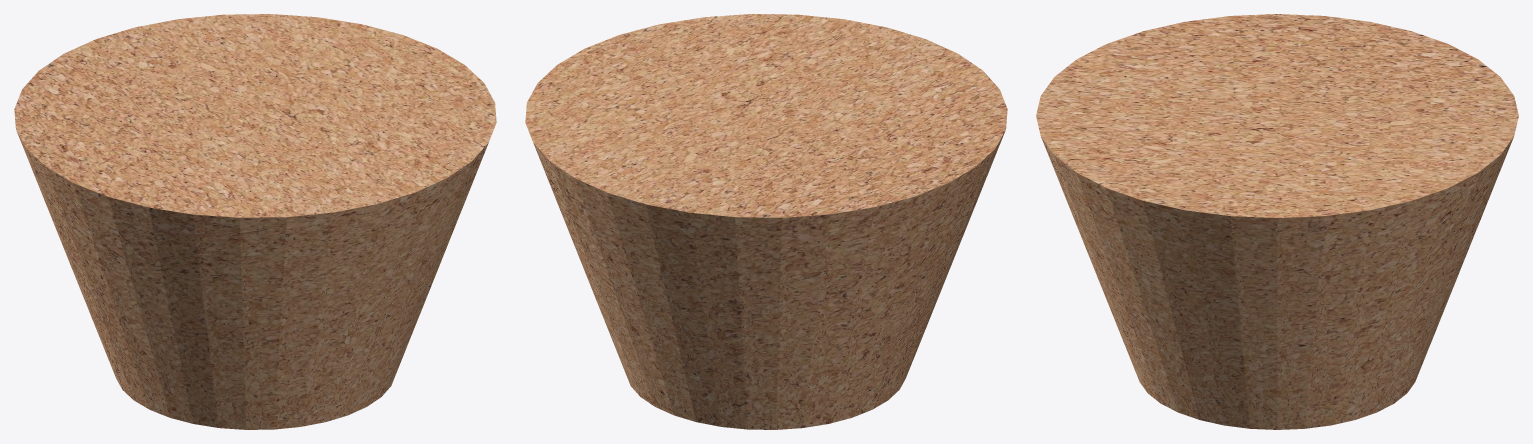
File: cork.fbx
The picture shows the model from 3 angles, left to right: view 1: azimuth 30°, elevation 25°; view 2: azimuth 150°, elevation 25°; view 3: azimuth 270°, elevation 25°; orthographic projection.
Parts seen in each view (by area): view 1: 円柱; view 2: 円柱; view 3: 円柱.
Boxes of the visible parts, left/top/right/bottom form: 円柱: left=14, top=14, right=496, bottom=429; 円柱: left=525, top=14, right=1007, bottom=429; 円柱: left=1036, top=14, right=1518, bottom=429.
Bounding box in the file's own units: 510 × 297 × 510.
1 material, 1 textured.
